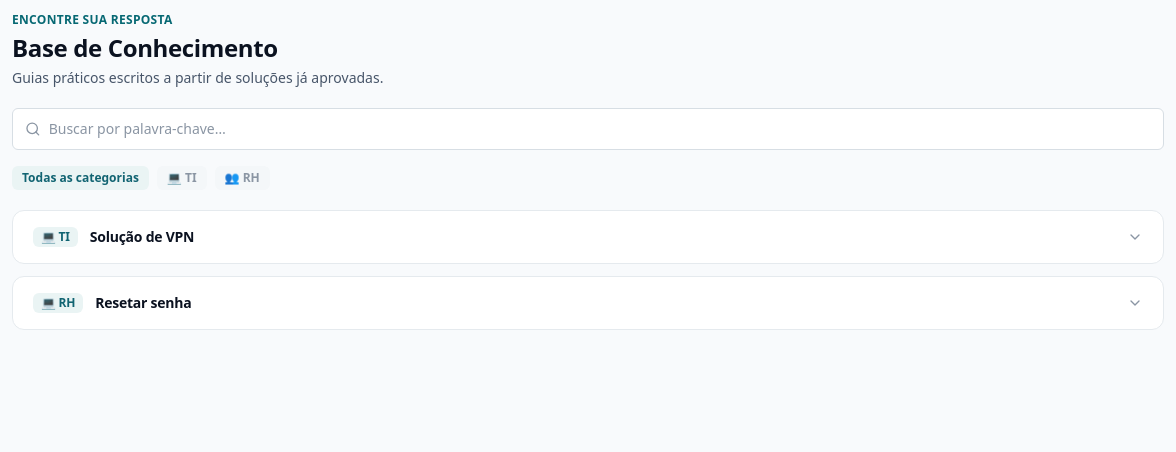
Test: BaseConhecimentoPage (F5.2) › lista artigos e expande o conteúdo no acordeão
Check: the text "Solução de VPN" is shown, box [90,227,194,246]
Check: the text "Resetar senha" is shown, box [95,293,192,312]
Click the button "💻 TI Solução de VPN". click: {"x": 55, "y": 237}
box: [13,211,1163,263]
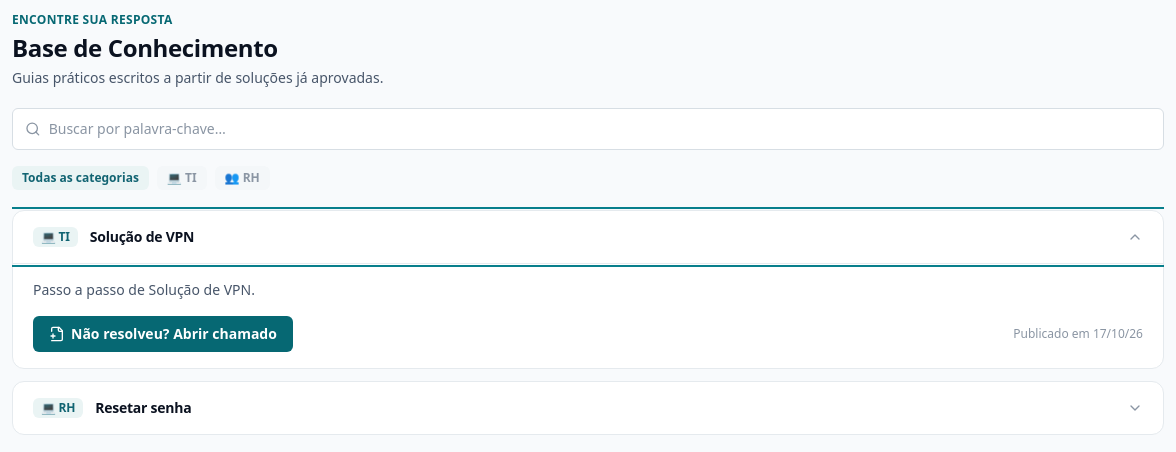
Check: the text "Passo a passo de Solução de VPN." is shown, box [33,280,255,299]
